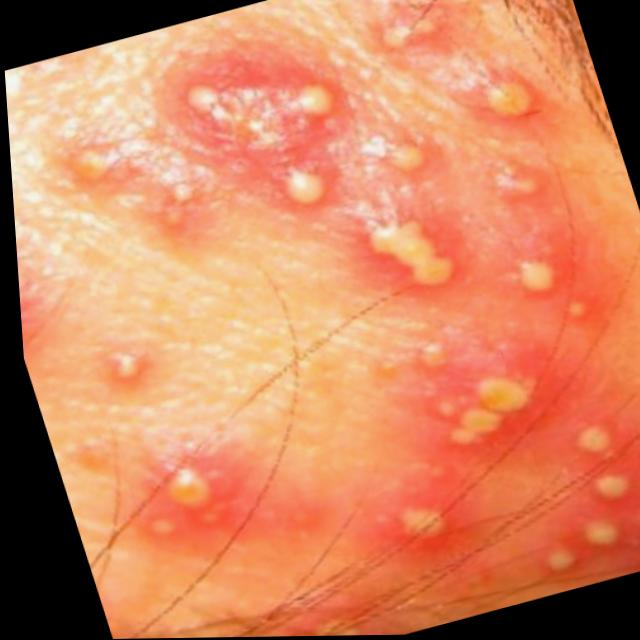pustule: (8, 0, 640, 590), (114, 443, 255, 559)
